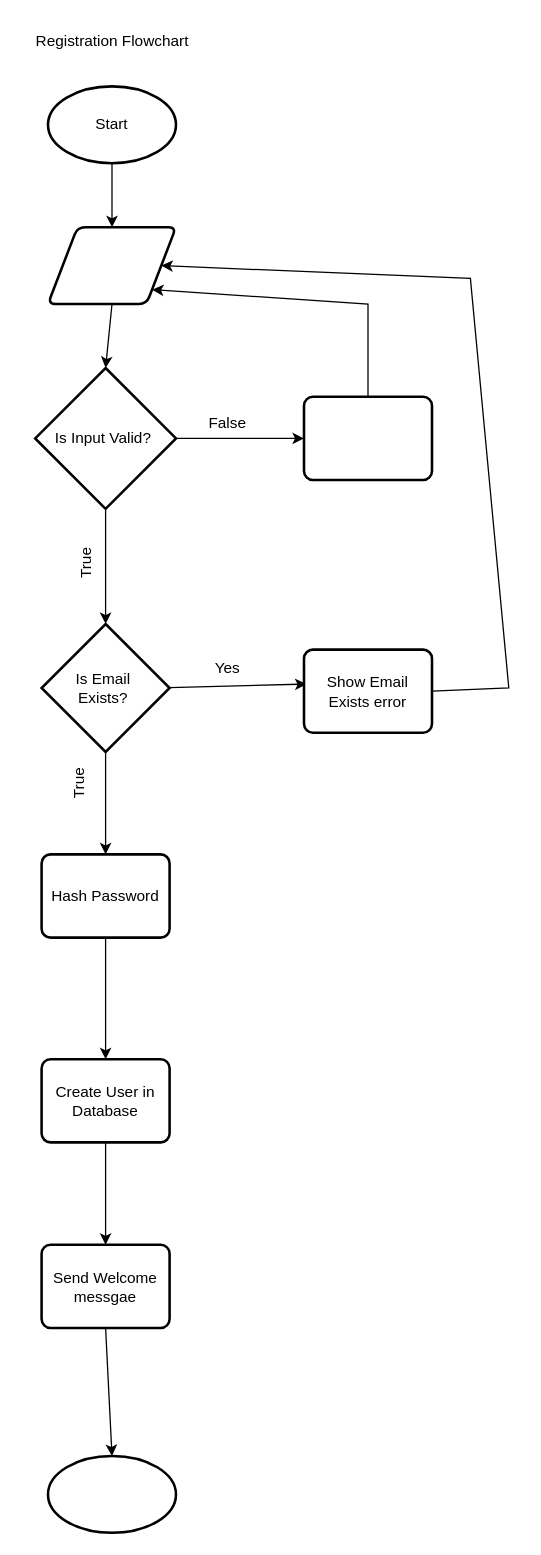
This 541x1555 diagram has some shape labels left out. The shapes that lost their labels are listed below. From the top down, each one's centre as x and y in pixels, then its label:
[111,265]: User Registration Form
[367,438]: Show Validation Error
[111,1493]: End
